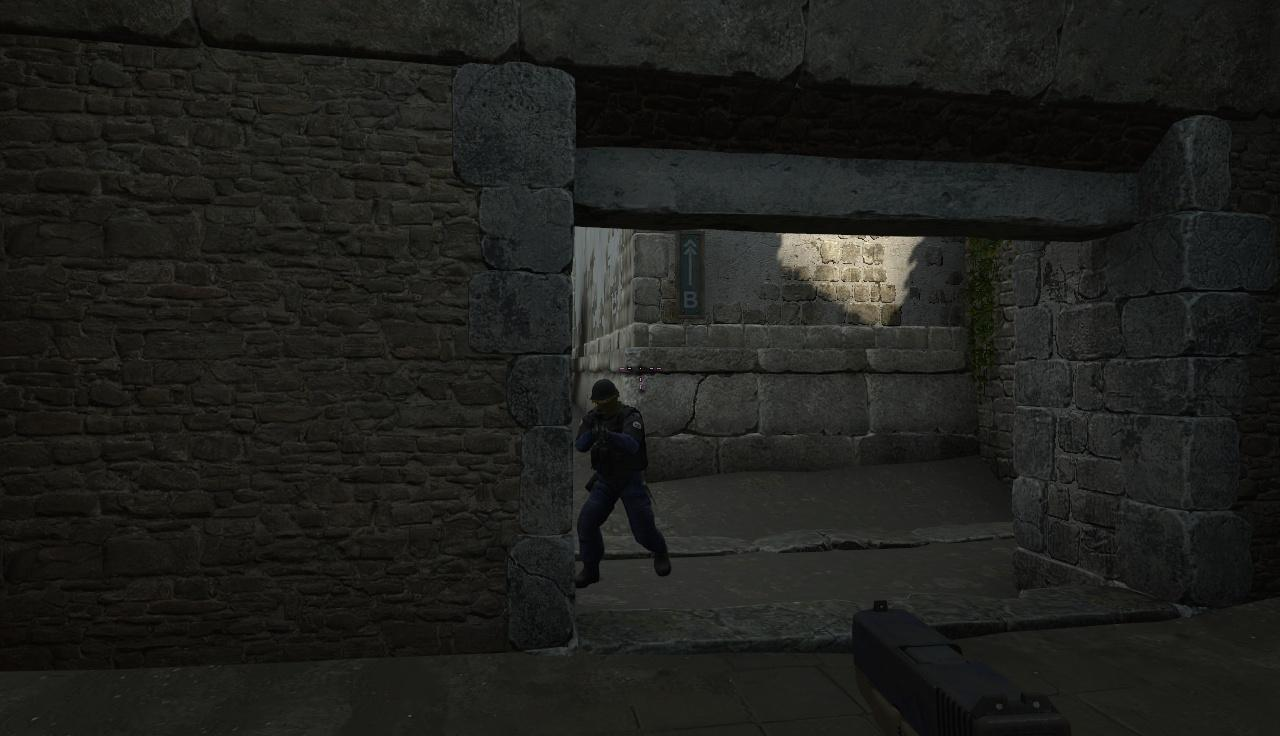ct: (575, 378, 653, 588)
cthead: (588, 379, 620, 416)
pistol: (841, 602, 1078, 736)
